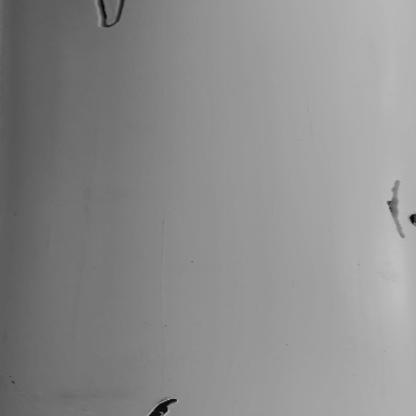fengxi: (86, 1, 136, 30)
kongdong: (389, 172, 411, 244), (141, 393, 187, 411), (401, 209, 416, 232)
